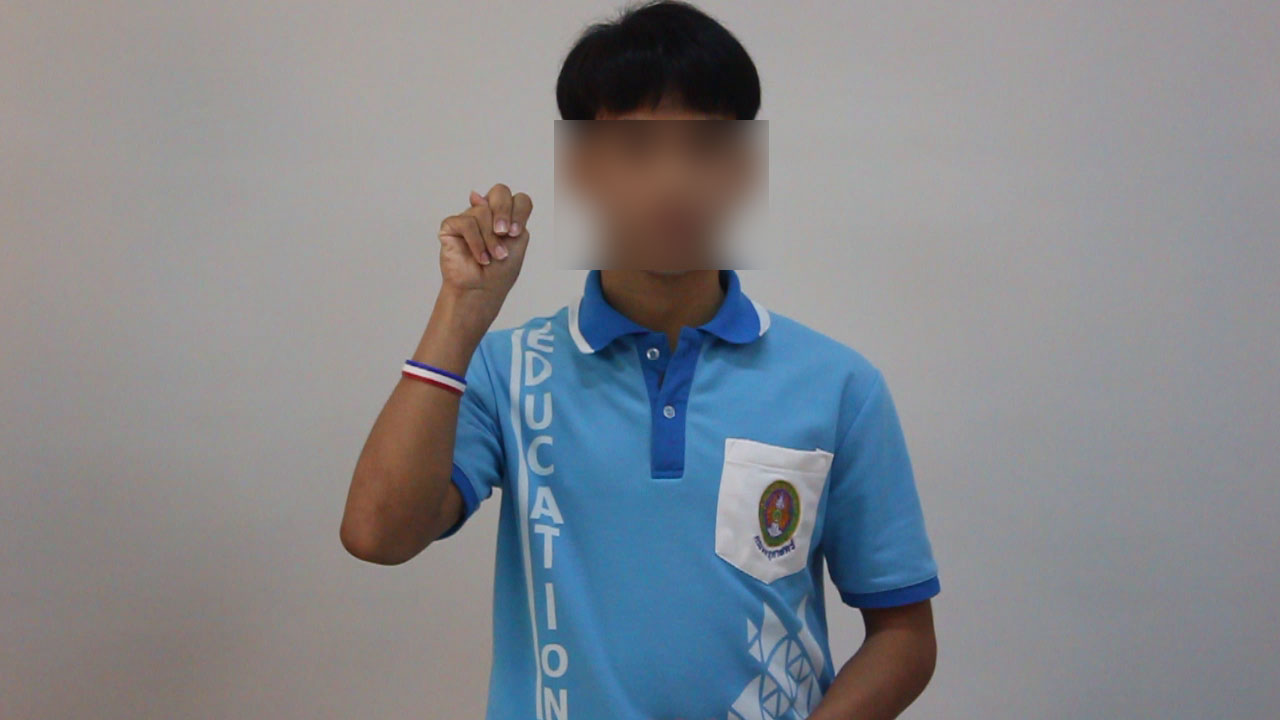nor: (423, 180, 547, 308)
